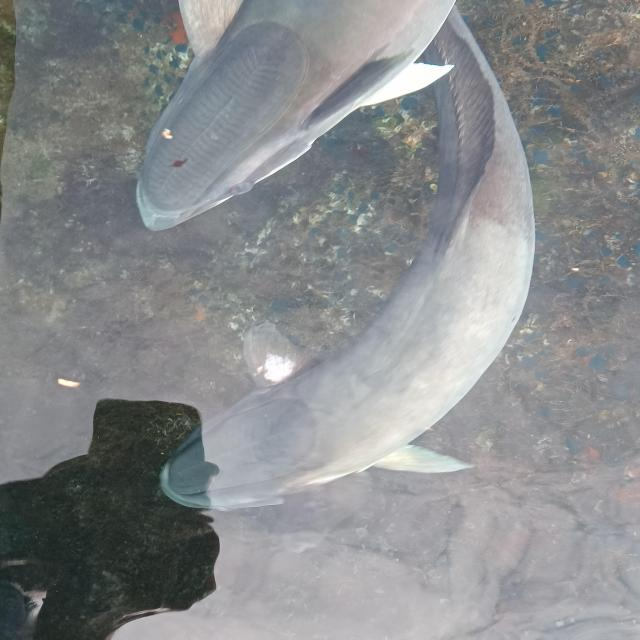ikan: (153, 2, 538, 512), (134, 0, 456, 231)
